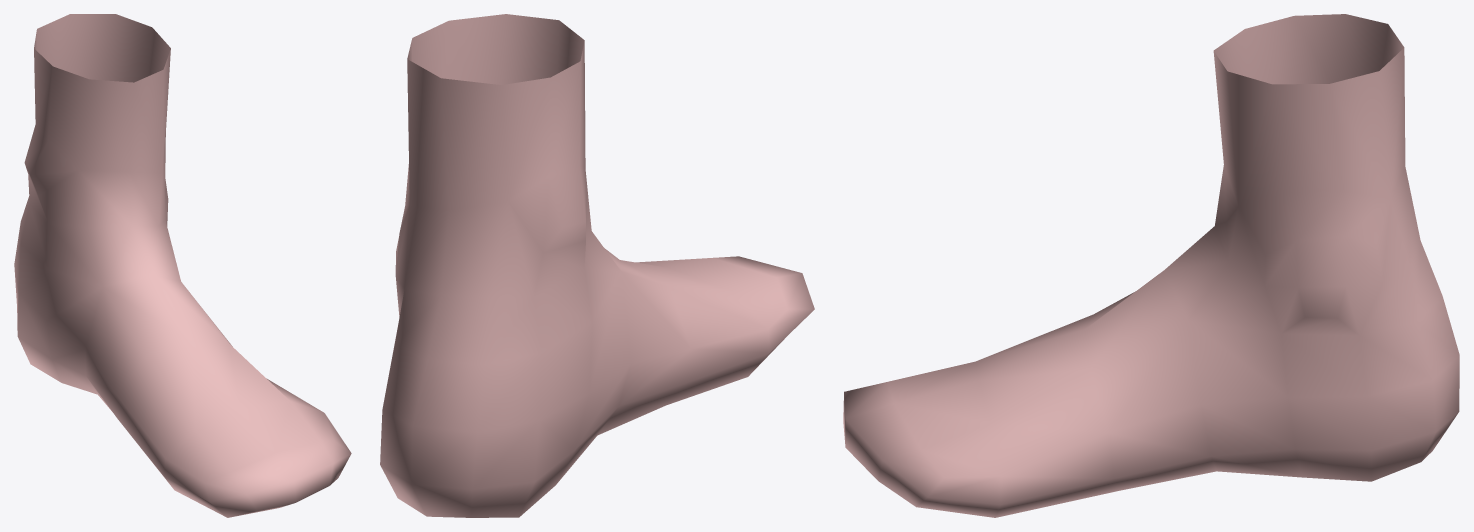
The model's file is Superhero_Male_Foot02.fbx.
The picture shows the model from 3 angles, left to right: view 1: azimuth 30°, elevation 25°; view 2: azimuth 150°, elevation 25°; view 3: azimuth 270°, elevation 25°; orthographic projection. The views are drawn at different scales.
Parts seen in each view (by area): view 1: Superhero_Male_Foot02; view 2: Superhero_Male_Foot02; view 3: Superhero_Male_Foot02.
Boxes of the visible parts, box(x1,y1,x2,y2) form: Superhero_Male_Foot02: box(14, 14, 351, 517); Superhero_Male_Foot02: box(380, 14, 814, 517); Superhero_Male_Foot02: box(843, 14, 1459, 517).
Size of the model in its own units: 0.7322 by 1.38 by 1.82.
